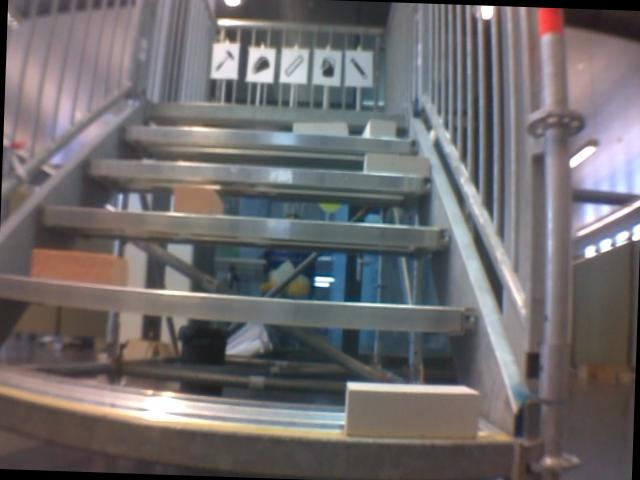brick: (344, 381, 480, 442), (32, 250, 127, 286), (172, 185, 222, 213), (363, 154, 427, 174), (292, 120, 347, 134), (362, 119, 394, 137)
bucket: (315, 52, 338, 80)
edge: (40, 205, 452, 248), (84, 158, 433, 191), (123, 125, 420, 152), (146, 102, 407, 123)
hammer: (210, 47, 235, 74)
pencil: (348, 54, 370, 81)
ruler: (281, 51, 305, 78)
taco: (248, 52, 273, 77)
